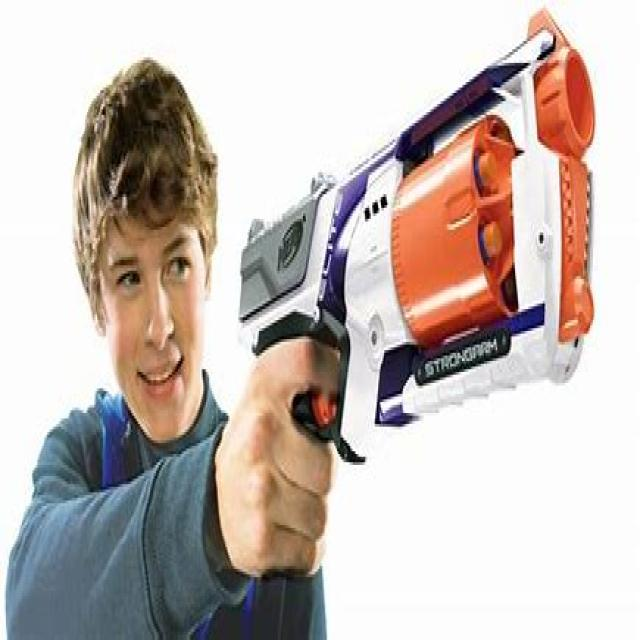nerf-maverik: (243, 1, 608, 560)
